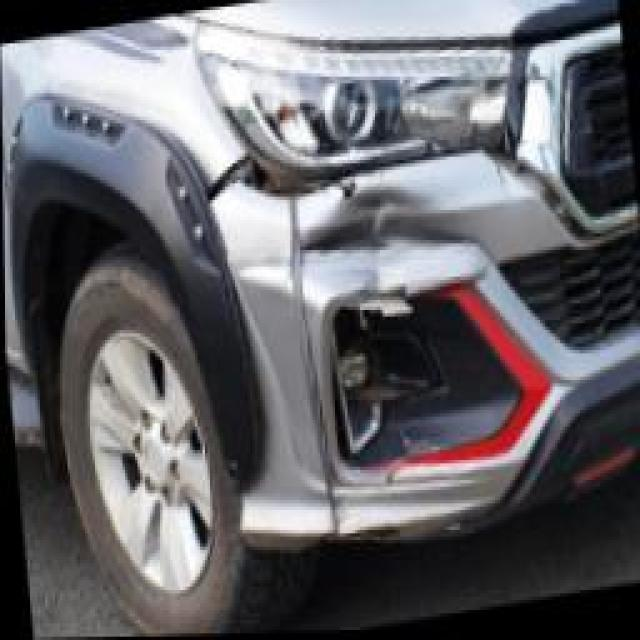Bumper: (202, 149, 580, 549)
